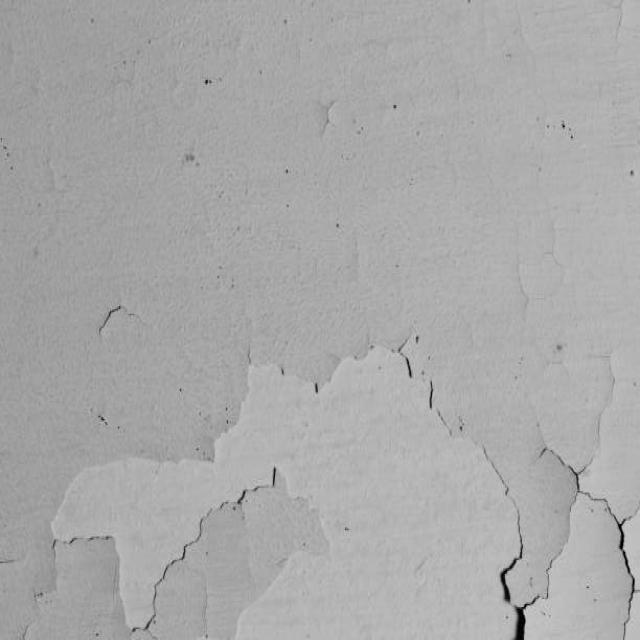peeling paint: (0, 215, 640, 640), (303, 78, 351, 154)
